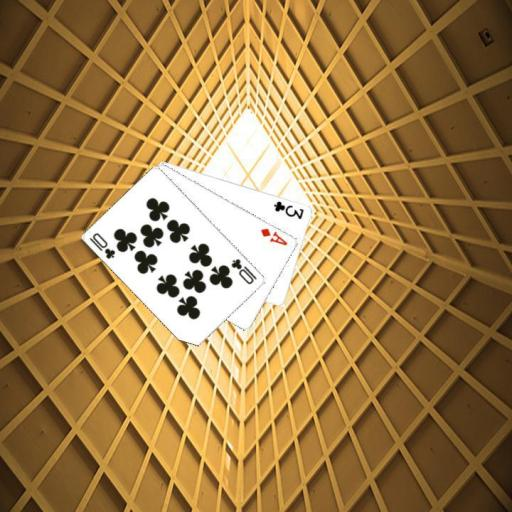10C: (228, 255, 259, 286), (87, 230, 117, 260)
3C: (271, 198, 306, 221)
AD: (258, 225, 290, 247)
